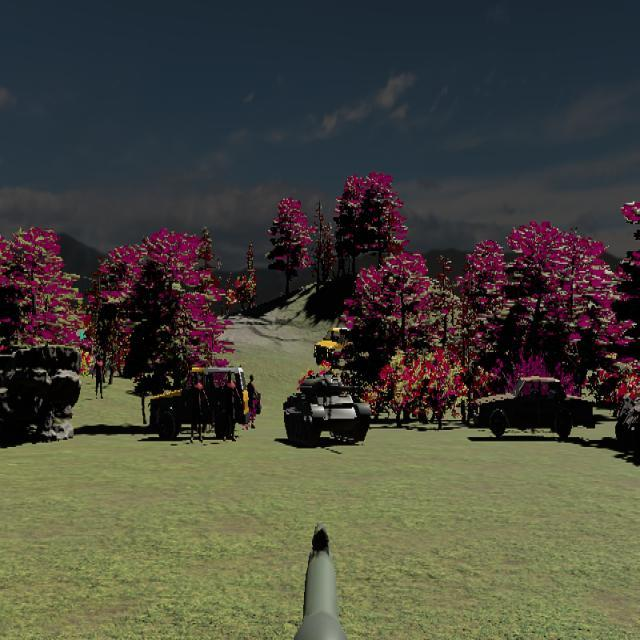Tank: (283, 373, 371, 447)
car: (468, 374, 596, 441), (147, 364, 252, 440), (313, 326, 367, 368)
